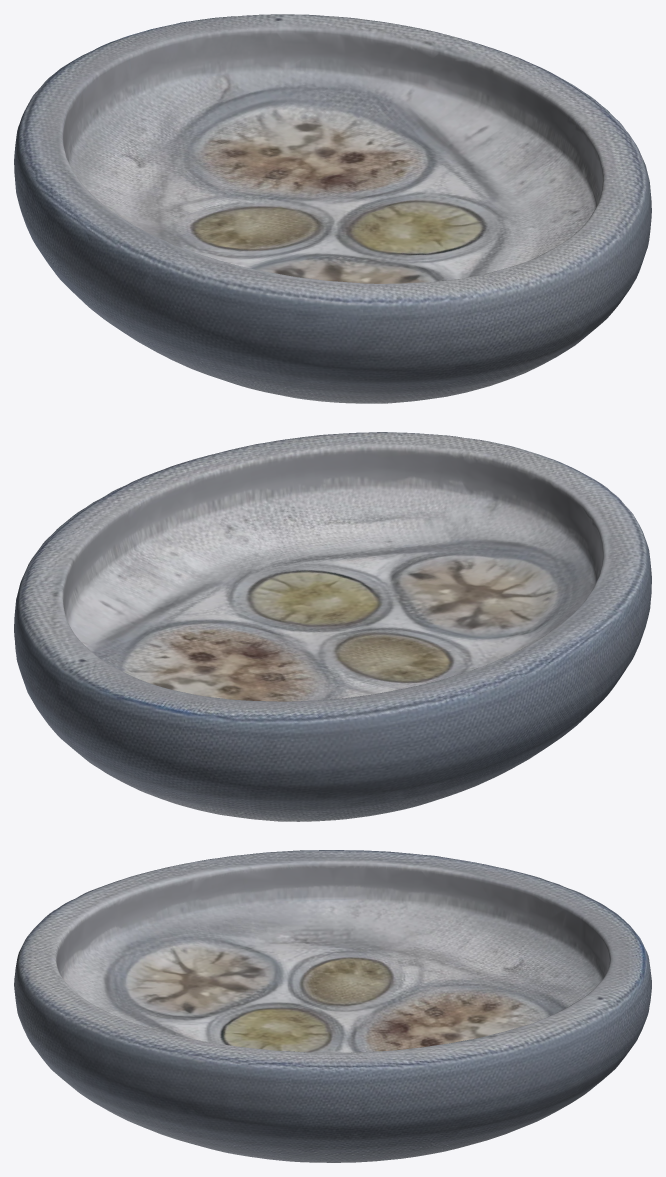
Rendered from coccidia.glb.
3 renders of one model, top to bottom at view 1: azimuth 30°, elevation 25°; view 2: azimuth 150°, elevation 25°; view 3: azimuth 270°, elevation 25°, orthographic. The views are drawn at different scales.
Parts seen in each view (by area): view 1: model; view 2: model; view 3: model.
Boxes of the visible parts, <box> form: model: <box>14,14,651,403</box>; model: <box>14,432,651,821</box>; model: <box>14,850,651,1162</box>.
Size of the model in its own units: 1.58 by 0.4643 by 1.9.
Materials: 1 (1 with a texture image).
